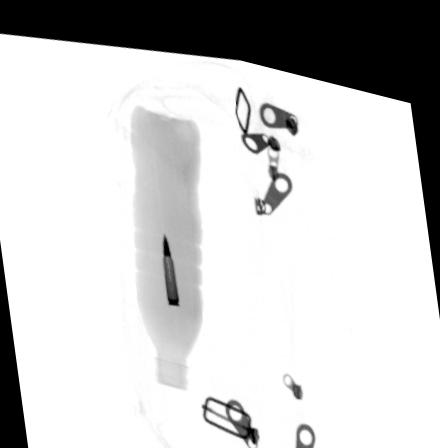Bullet: (162, 220, 180, 298)
